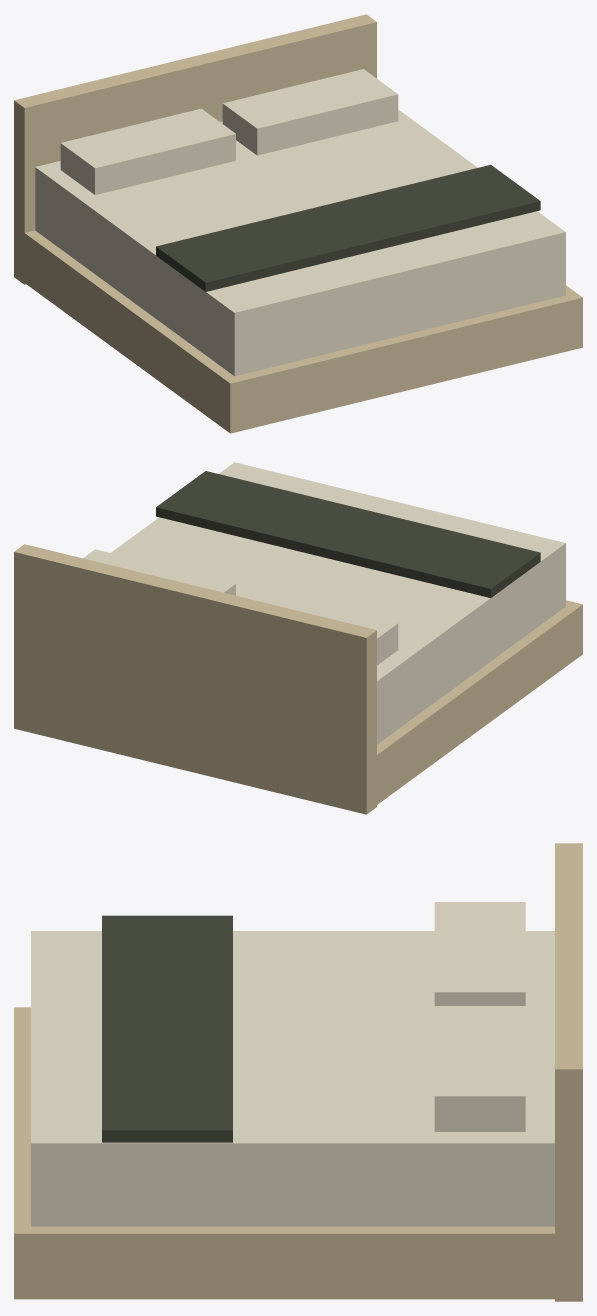
The model's file is bed.glb.
The picture shows the model from 3 angles, top to bottom: view 1: azimuth 30°, elevation 25°; view 2: azimuth 150°, elevation 25°; view 3: azimuth 270°, elevation 25°; orthographic projection. The views are drawn at different scales.
Parts seen in each view (by area): view 1: REF-L05-R01-bed-part-2, REF-L05-R01-bed-part-1, REF-L05-R01-bed-part-3, REF-L05-R01-bed-part-6, REF-L05-R01-bed-part-4, REF-L05-R01-bed-part-5; view 2: REF-L05-R01-bed-part-3, REF-L05-R01-bed-part-2, REF-L05-R01-bed-part-6, REF-L05-R01-bed-part-1, REF-L05-R01-bed-part-4, REF-L05-R01-bed-part-5; view 3: REF-L05-R01-bed-part-2, REF-L05-R01-bed-part-1, REF-L05-R01-bed-part-6, REF-L05-R01-bed-part-3, REF-L05-R01-bed-part-5, REF-L05-R01-bed-part-4.
Boxes of the visible parts, bbox=[...] form: REF-L05-R01-bed-part-2: bbox=[35, 109, 565, 376]; REF-L05-R01-bed-part-1: bbox=[14, 226, 582, 433]; REF-L05-R01-bed-part-3: bbox=[14, 14, 376, 284]; REF-L05-R01-bed-part-6: bbox=[156, 164, 540, 291]; REF-L05-R01-bed-part-4: bbox=[60, 108, 235, 194]; REF-L05-R01-bed-part-5: bbox=[222, 69, 398, 155]; REF-L05-R01-bed-part-3: bbox=[14, 544, 376, 814]; REF-L05-R01-bed-part-2: bbox=[111, 462, 565, 744]; REF-L05-R01-bed-part-6: bbox=[156, 471, 540, 597]; REF-L05-R01-bed-part-1: bbox=[366, 600, 582, 812]; REF-L05-R01-bed-part-4: bbox=[245, 589, 398, 665]; REF-L05-R01-bed-part-5: bbox=[83, 549, 235, 595]; REF-L05-R01-bed-part-2: bbox=[31, 931, 554, 1226]; REF-L05-R01-bed-part-1: bbox=[14, 1007, 582, 1299]; REF-L05-R01-bed-part-6: bbox=[102, 915, 232, 1142]; REF-L05-R01-bed-part-3: bbox=[555, 843, 582, 1301]; REF-L05-R01-bed-part-5: bbox=[434, 1006, 525, 1131]; REF-L05-R01-bed-part-4: bbox=[434, 902, 525, 1005].
Bounding box in the file's own units: 0.48 × 0.23 × 0.5105.
